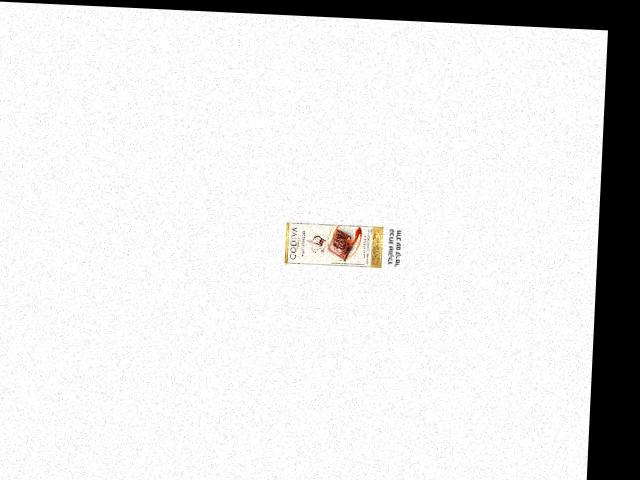chocolate: (282, 218, 387, 267)
